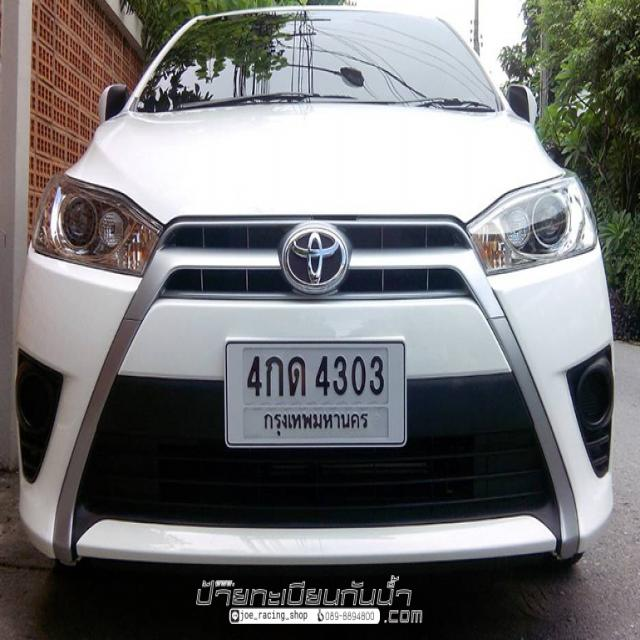license_plate: (224, 338, 410, 448)
